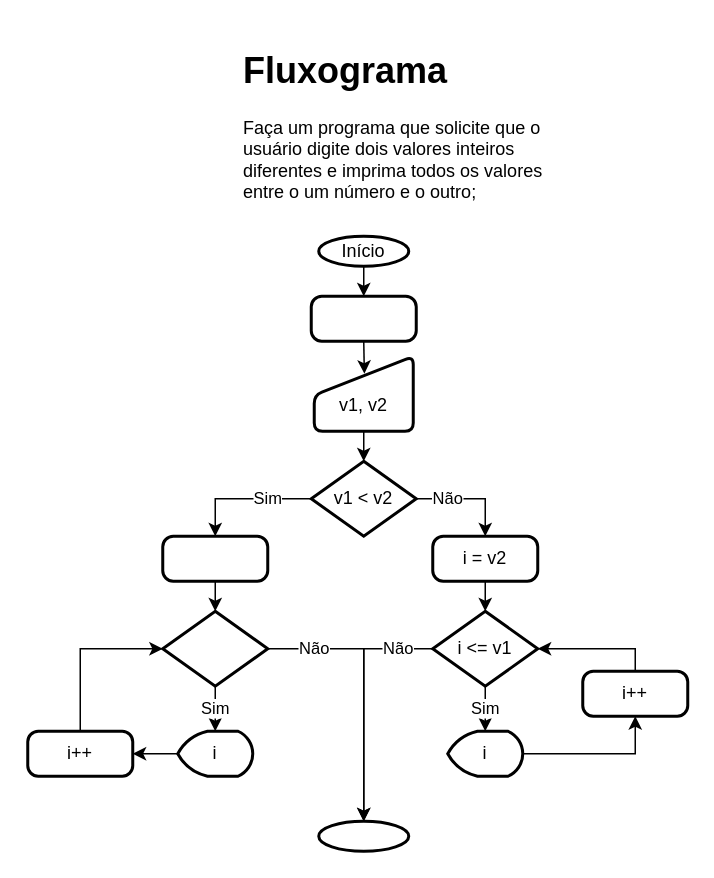
Image size: 714x878. Some labels were removed from this diagram. The centre of each missing label's shape, as x and y in pixels:
"Fim" goes at point (363, 835).
"i <= v2" goes at point (214, 648).
"i = v1" goes at point (214, 558).
"i, v1, v2" goes at point (363, 318).
